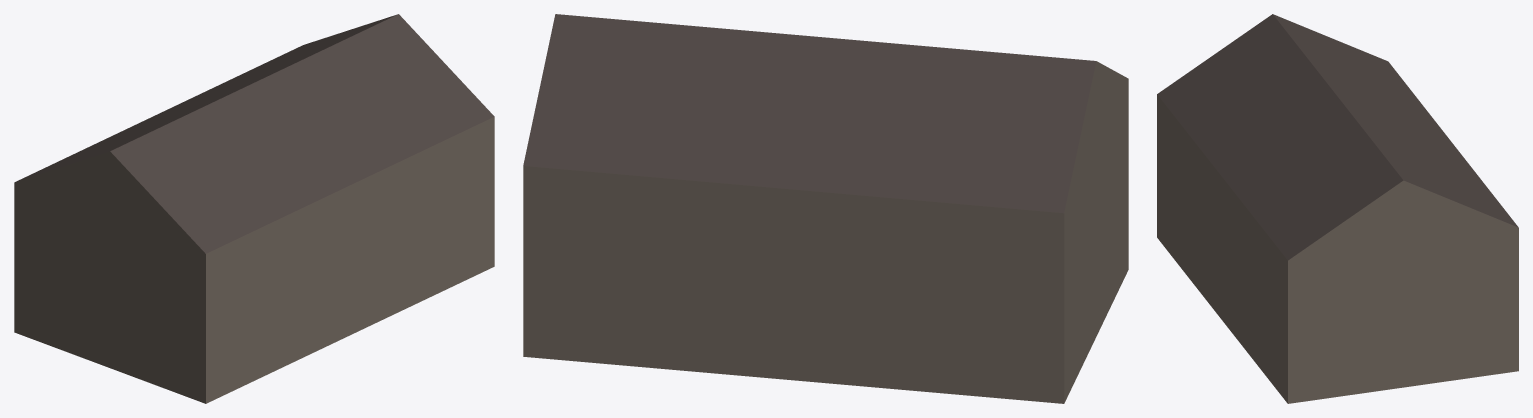
The picture shows the model from 3 angles, left to right: view 1: azimuth 30°, elevation 25°; view 2: azimuth 150°, elevation 25°; view 3: azimuth 270°, elevation 25°; orthographic projection. The views are drawn at different scales.
Parts seen in each view (by area): view 1: HP-w859457355; view 2: HP-w859457355; view 3: HP-w859457355.
Part boxes in pixels (<box>): HP-w859457355: <box>14,14,494,403</box>; HP-w859457355: <box>523,14,1128,403</box>; HP-w859457355: <box>1157,14,1518,403</box>.
Bounding box in the file's own units: 17.89 × 8.67 × 13.74.
